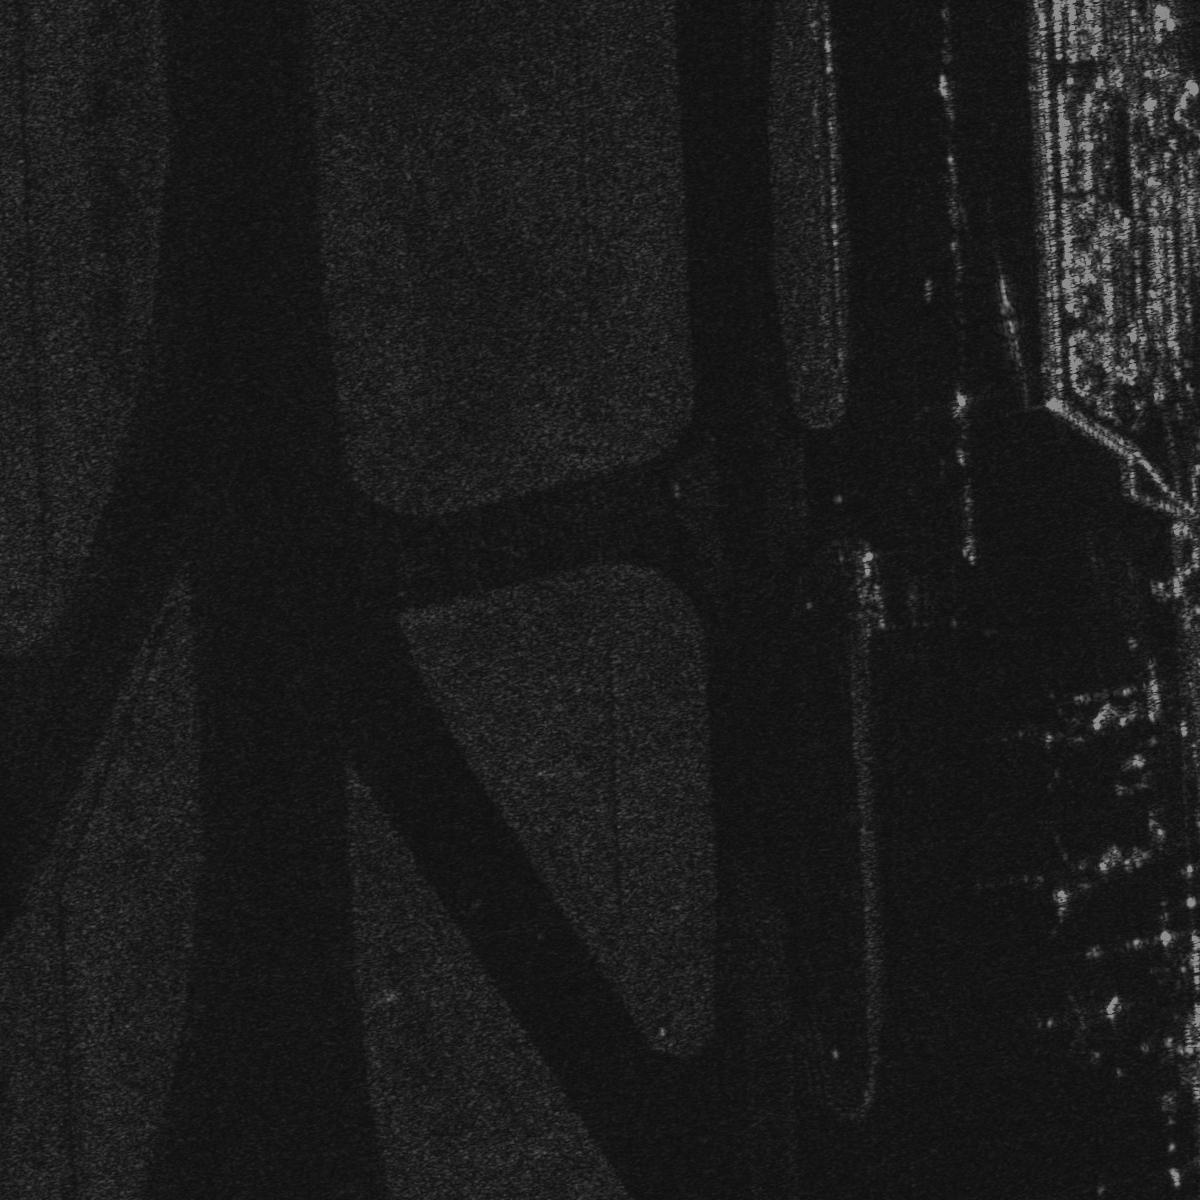ARJ21: (964, 816, 1122, 938)
other: (990, 687, 1115, 798), (1030, 984, 1129, 1065)
